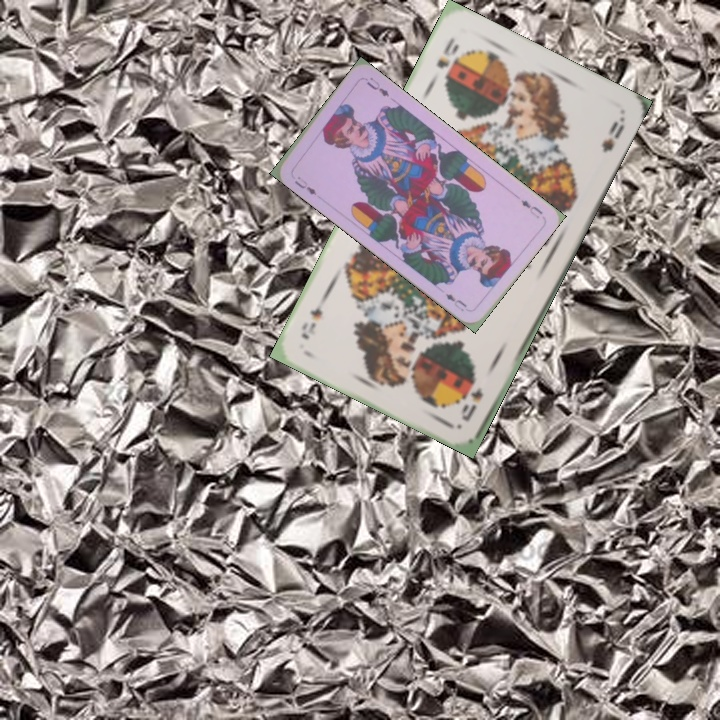EU: (290, 172, 319, 198), (517, 196, 545, 221)
SO: (456, 383, 486, 424), (432, 33, 462, 72)
